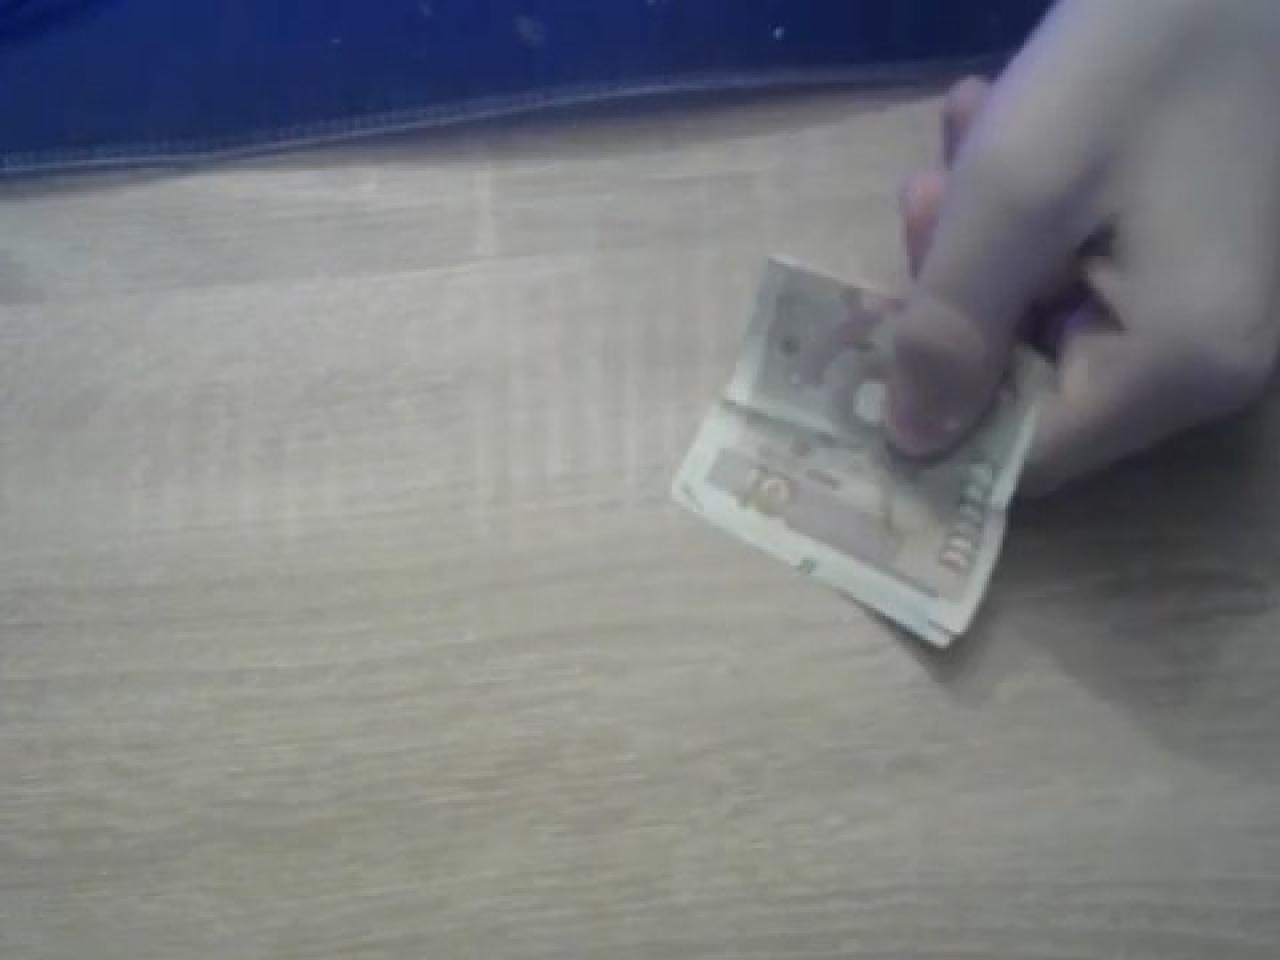10leva: (669, 250, 1053, 650)
